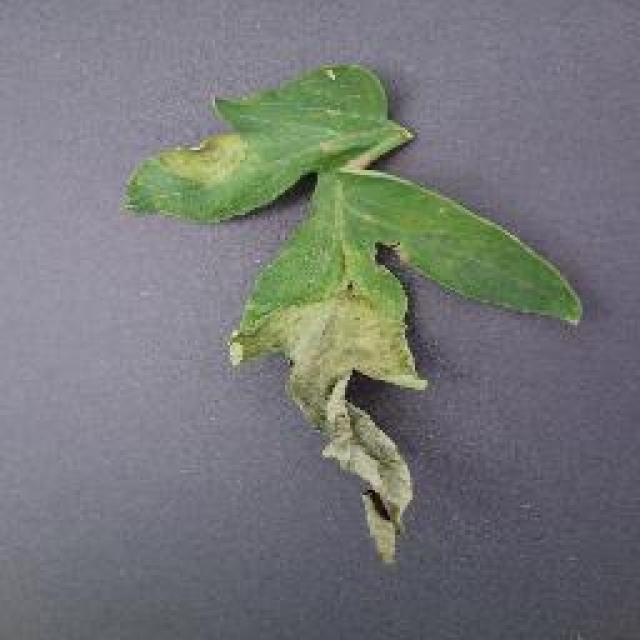Tomato___Late_blight: (120, 65, 582, 568)
